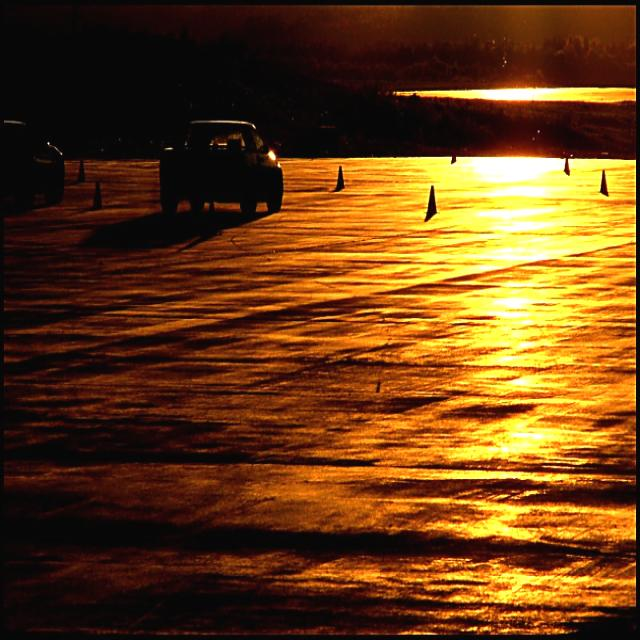Car: (157, 116, 282, 223)
